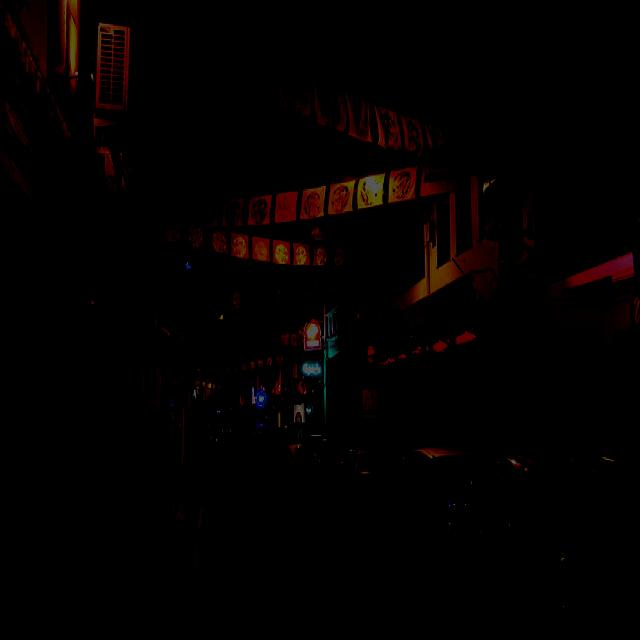Car: (427, 451, 640, 640), (328, 441, 402, 539)
